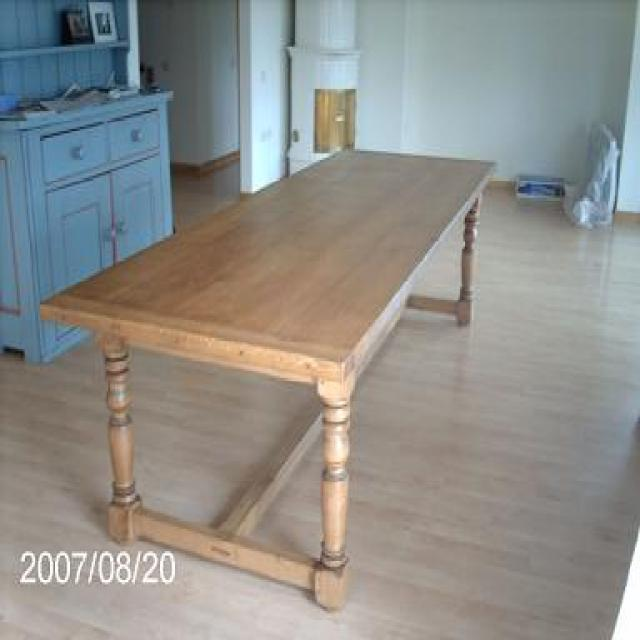table: (41, 150, 494, 611)
